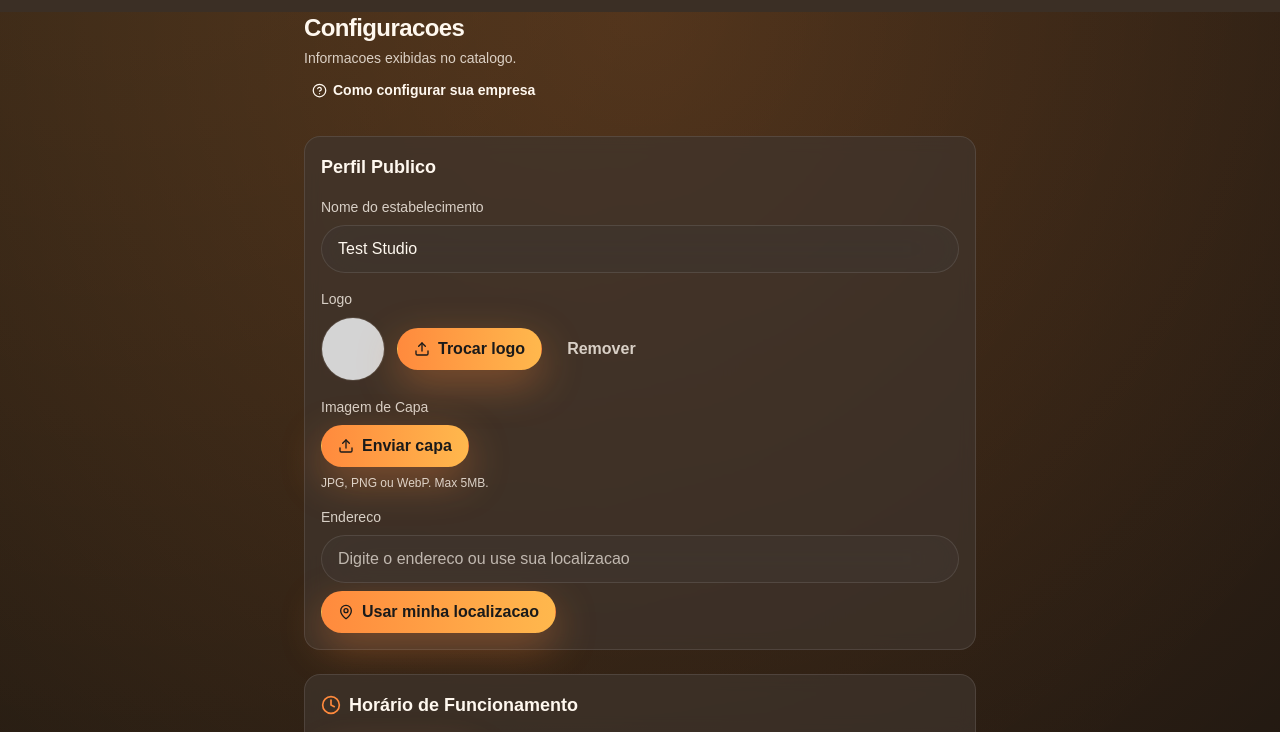
Test: SettingsPage › logo remove error is displayed
Step 1. Click the button with aria-label "Remover logo" → (601, 349), box [550,328,653,370]
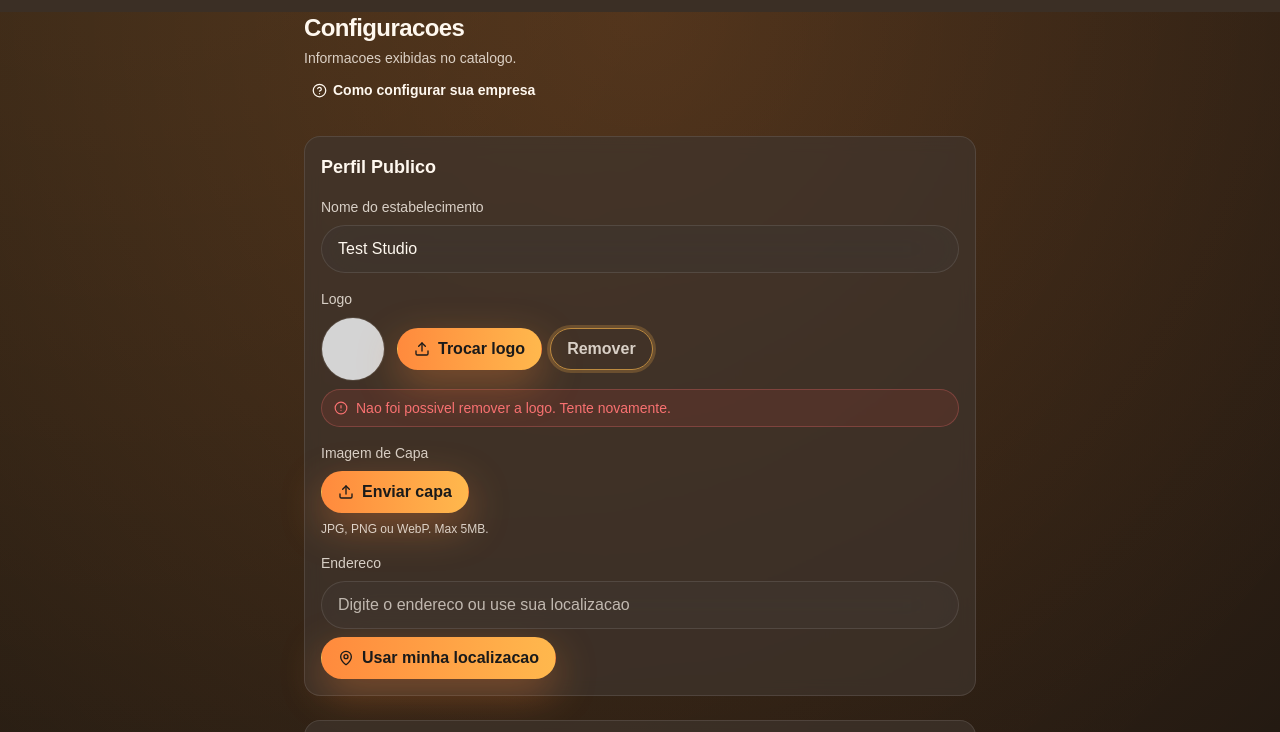
Expected: the text "Nao foi possivel remover a logo. Tente novamente." is shown, [321,389,959,427]
